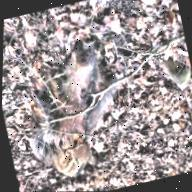boar: (14, 32, 160, 192)
